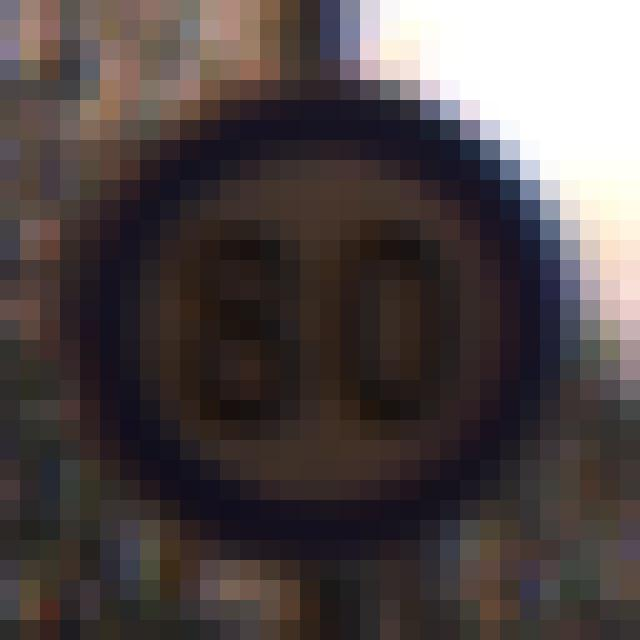SPEED-LIMIT-80: (64, 107, 572, 543)
